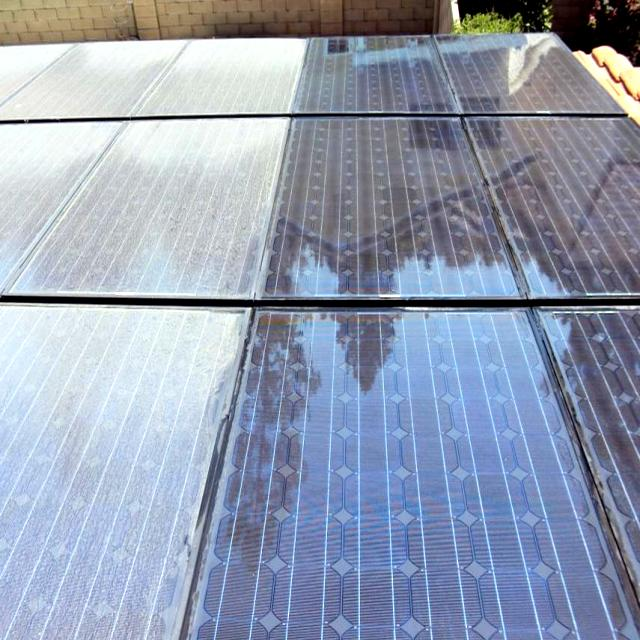dust: (0, 305, 190, 640), (0, 122, 259, 298), (2, 42, 288, 110)
